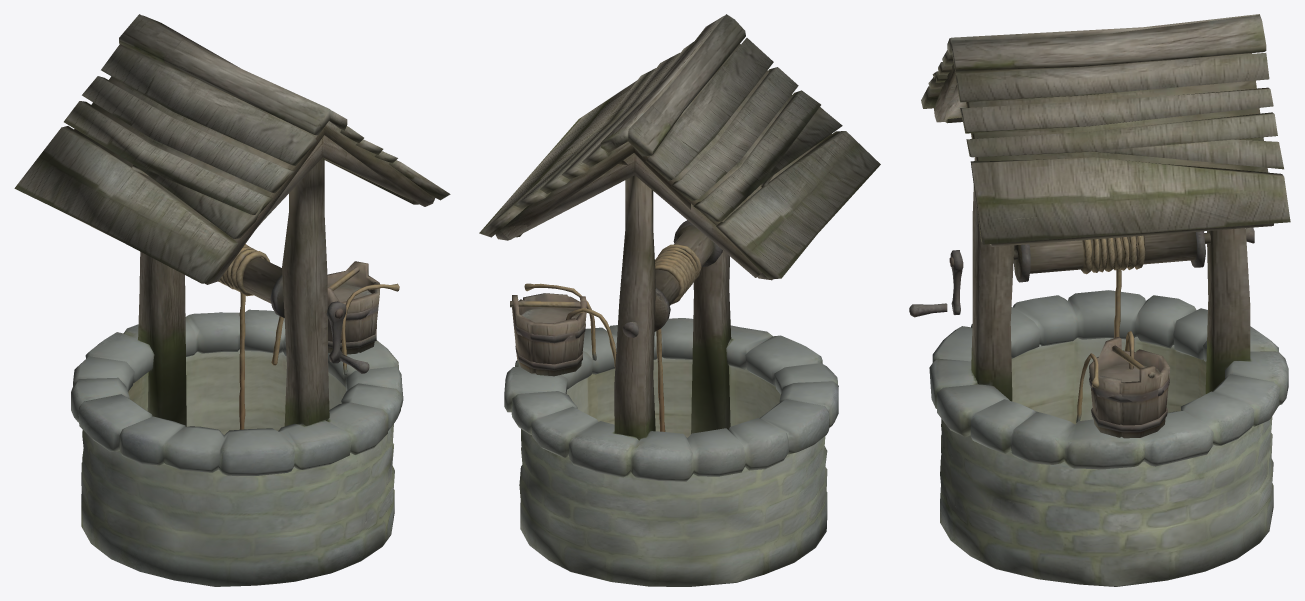
3 views of the same model, side by side, from view 1: azimuth 30°, elevation 25°; view 2: azimuth 150°, elevation 25°; view 3: azimuth 270°, elevation 25° (orthographic). The views are drawn at different scales.
Visible parts, largest first — view 1: tripo_node_7fa404de-92dd-4f9f-a65b-5230092c9201; view 2: tripo_node_7fa404de-92dd-4f9f-a65b-5230092c9201; view 3: tripo_node_7fa404de-92dd-4f9f-a65b-5230092c9201.
Part boxes in pixels (x1,y1,x2,y2): tripo_node_7fa404de-92dd-4f9f-a65b-5230092c9201: [14, 14, 450, 586]; tripo_node_7fa404de-92dd-4f9f-a65b-5230092c9201: [479, 14, 880, 586]; tripo_node_7fa404de-92dd-4f9f-a65b-5230092c9201: [909, 14, 1290, 586].
Size of the model in its own units: 0.7324 by 0.998 by 0.7051.
Materials: 1 (1 with a texture image).
